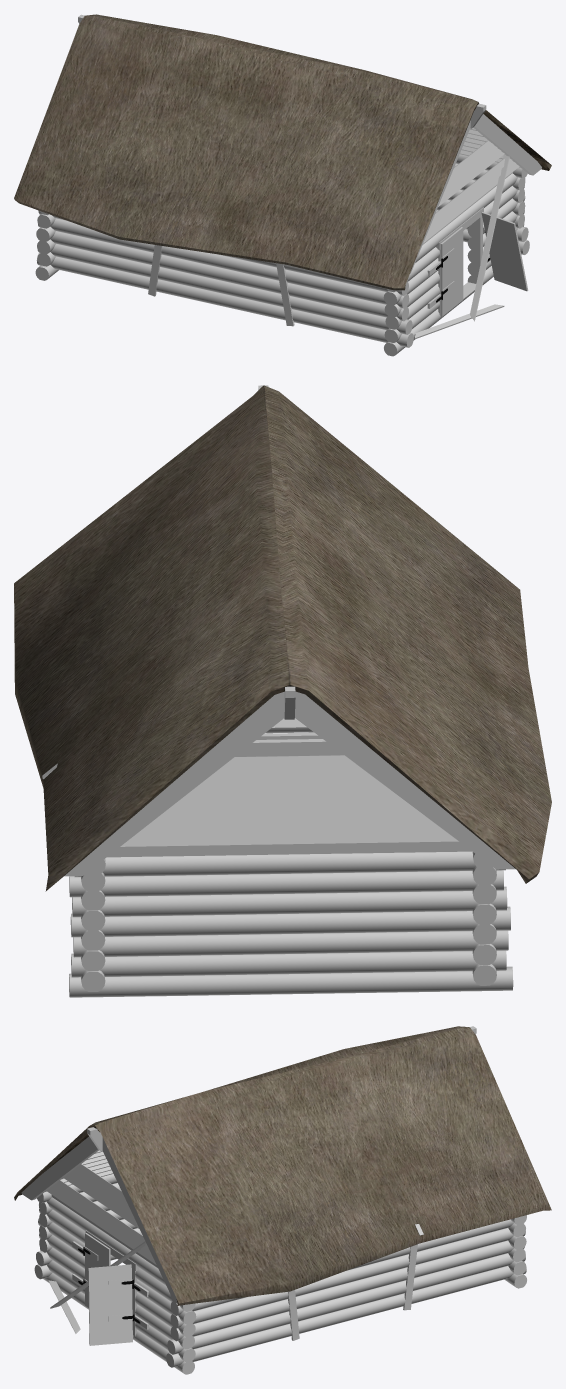
The model's file is Barn.fbx.
3 views of the same model, one above another, from view 1: azimuth 30°, elevation 25°; view 2: azimuth 150°, elevation 25°; view 3: azimuth 270°, elevation 25° (orthographic). The views are drawn at different scales.
Parts seen in each view (by area): view 1: Roof; view 2: Roof; view 3: Roof.
Boxes of the visible parts, bbox=[...] form: Roof: bbox=[14, 14, 551, 356]; Roof: bbox=[14, 385, 551, 997]; Roof: bbox=[14, 1026, 551, 1374].
Bounding box in the file's own units: 2110 × 993 × 2279.
